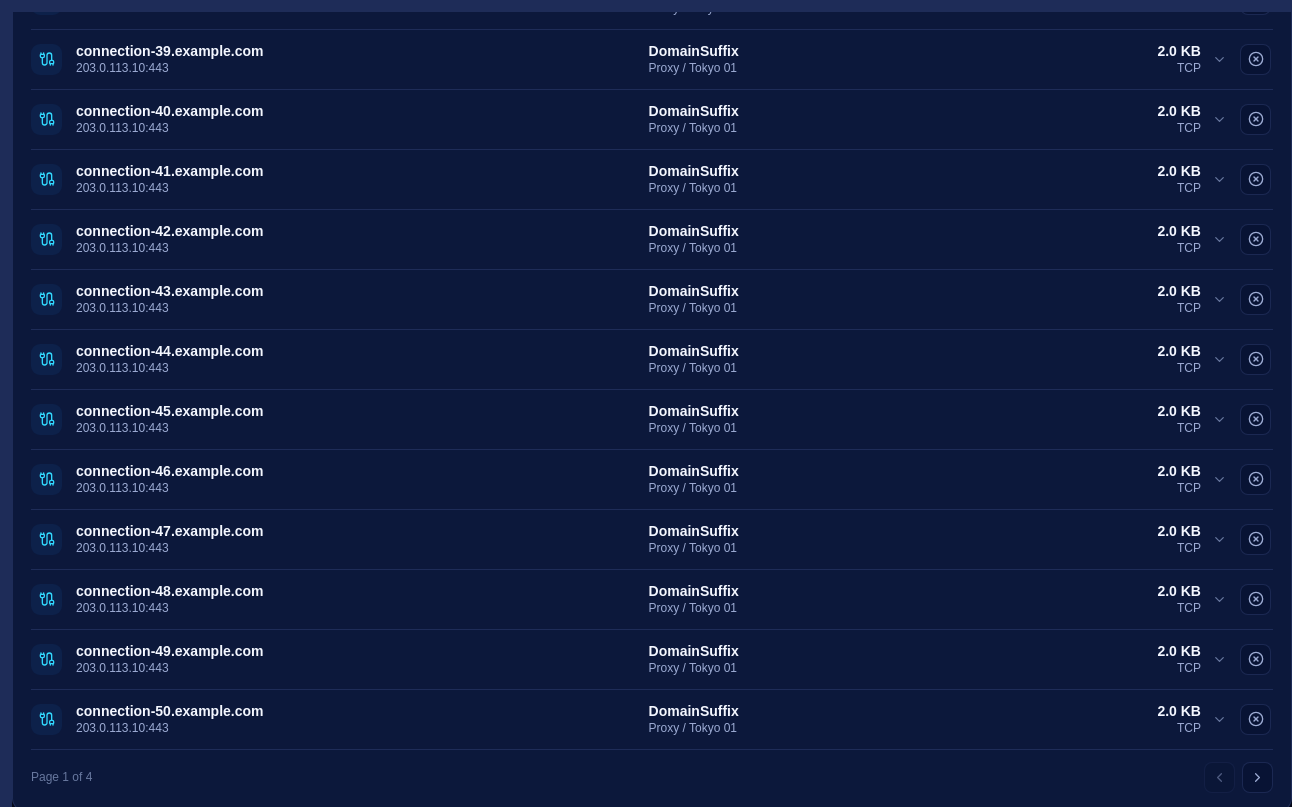
Scenario: real data workspace pages › paginates large connection lists and keeps only one page rendered
This screenshot has width=1292, height=807.
(page scrolled)
Expected: the text "Page 1 of 4" is shown, [31,770,92,784]
Click the button named "Next connections page" at (1258, 777), box [1242,762,1273,793]
(page scrolled)
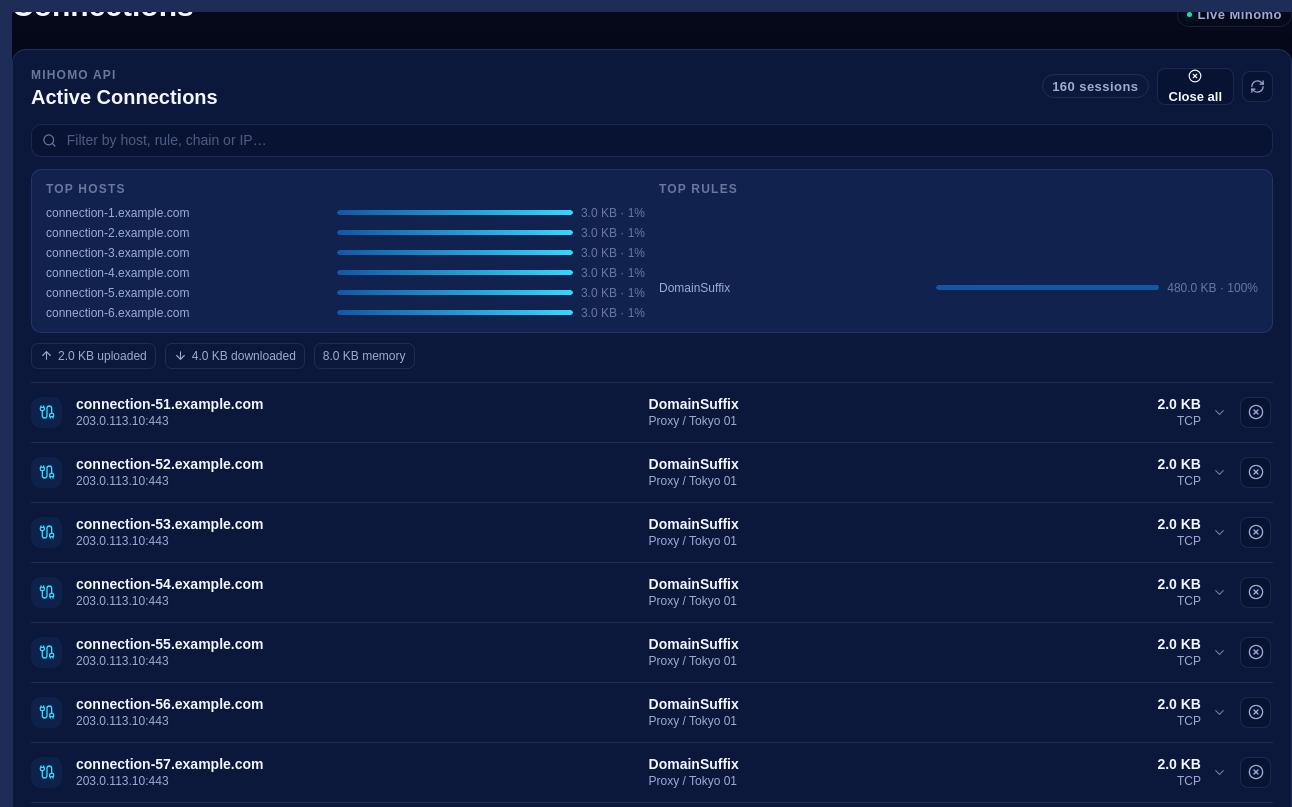
Now the button named "Close connection connection-51.example.com" is shown, box [1240,397,1271,428]
Now the number of buttons named "Close connection " is 50
